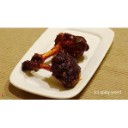chicken_lollipop: (23, 33, 87, 87)
